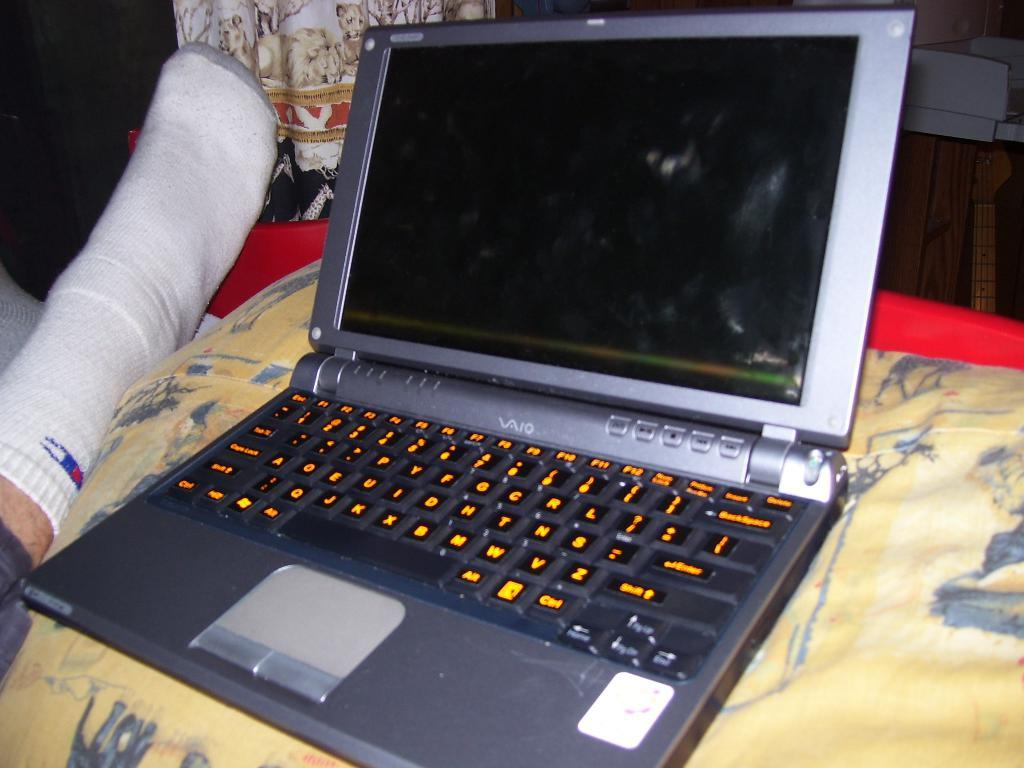Laptop: (14, 6, 911, 767)
